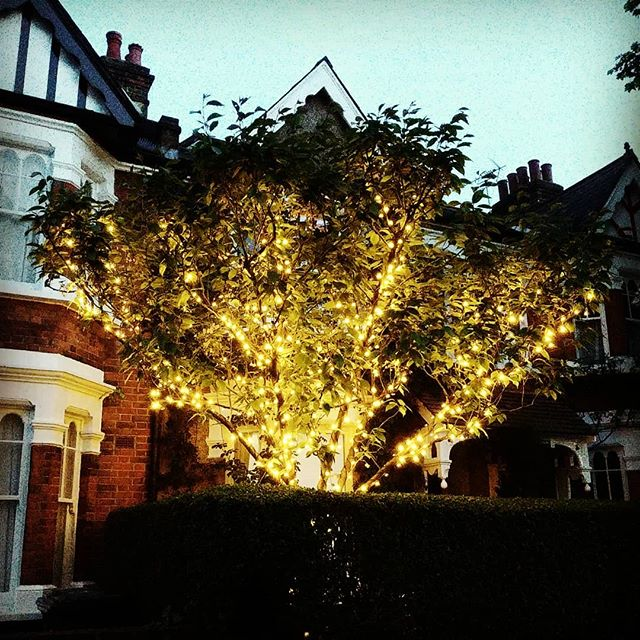building: (1, 16, 190, 582), (516, 162, 640, 521)
sky: (155, 1, 640, 138)
tree: (71, 159, 579, 500)
